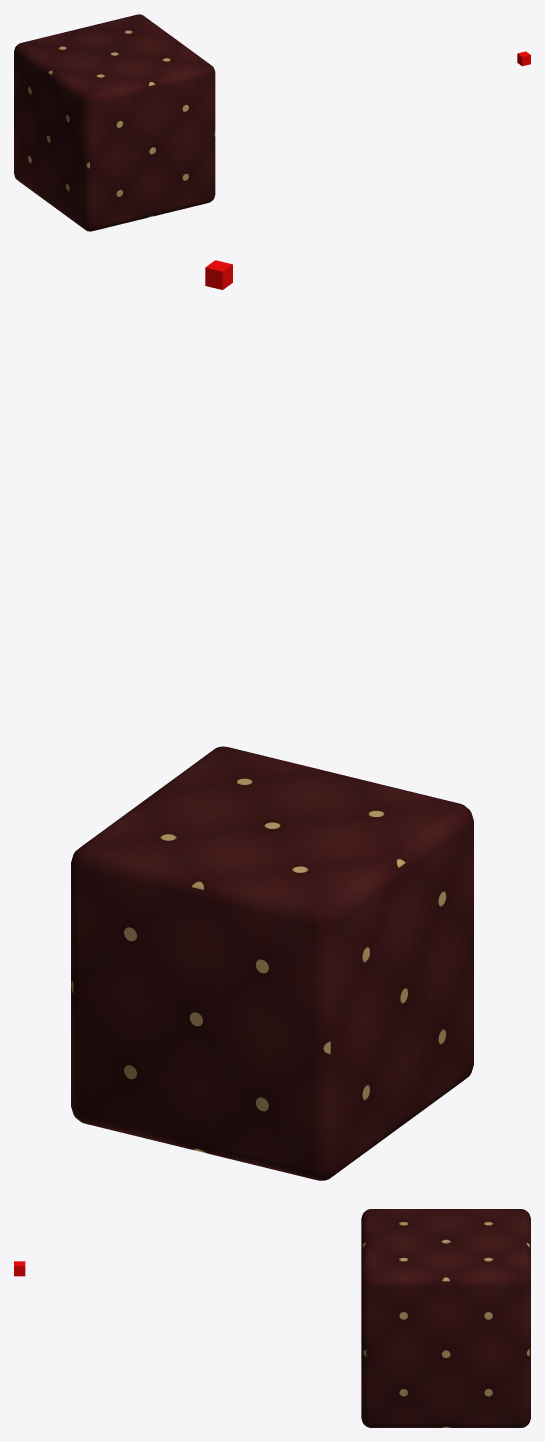
Rendered from cushion_3dsmax.fbx.
3 views of the same model, one above another, from view 1: azimuth 30°, elevation 25°; view 2: azimuth 150°, elevation 25°; view 3: azimuth 270°, elevation 25° (orthographic). The views are drawn at different scales.
Parts seen in each view (by area): view 1: cushion; view 2: cushion; view 3: cushion.
Boxes of the visible parts, left/top/right/bottom form: cushion: left=14, top=14, right=215, bottom=231; cushion: left=71, top=746, right=473, bottom=1180; cushion: left=361, top=1209, right=530, bottom=1427.
Size of what is drawn, in the model's own units: 32.88 by 24.47 by 45.8.
Materials: 2 (1 with a texture image).
